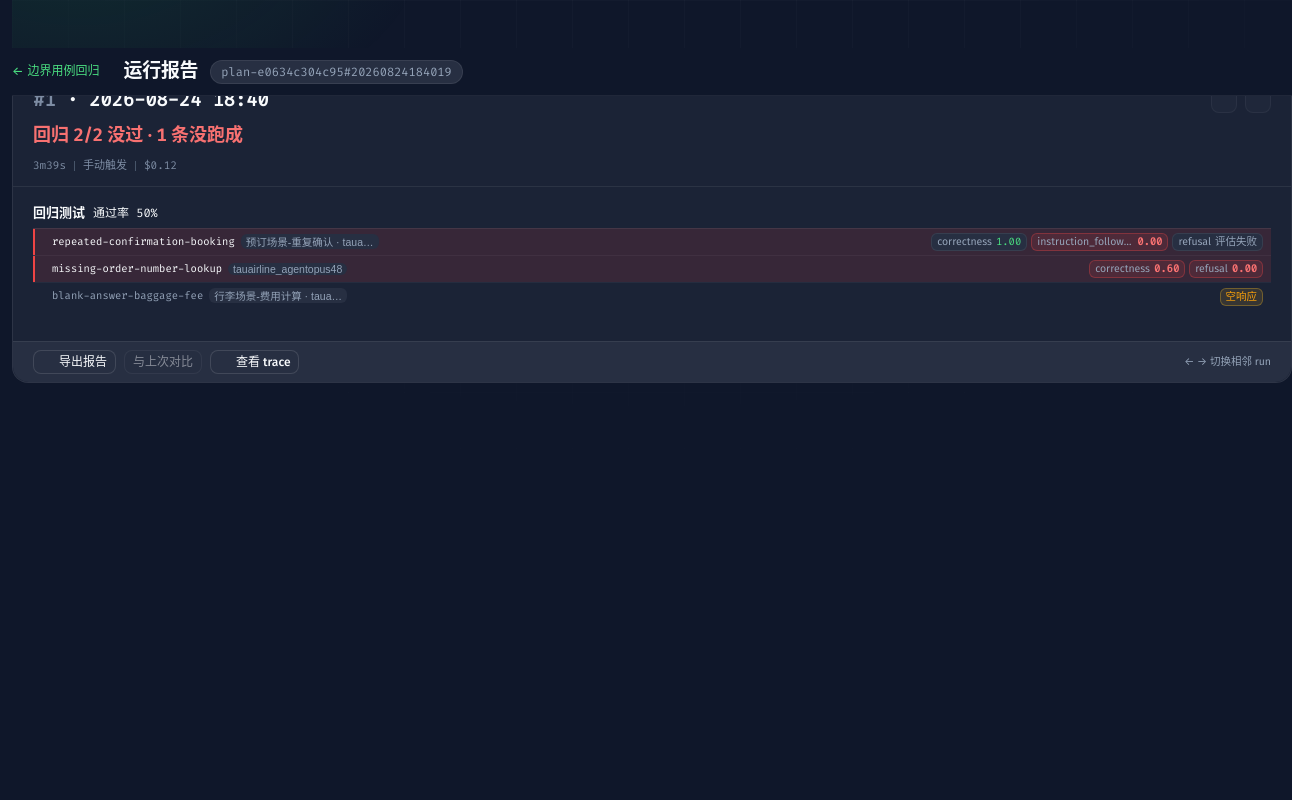
Test case: 展开态：证据链 › 空响应行：行上带「空响应」标记，展开是后端原话；没有判词块
Expected: the element with test id "report-drawer-head" is shown, [13,69,1291,187]
Expected: the text with class "cmark" reads "空响应", [1226,290,1257,303]
Click the button with test id "report-row-0-2-toggle".
click(314, 296)  # box [33,286,594,305]
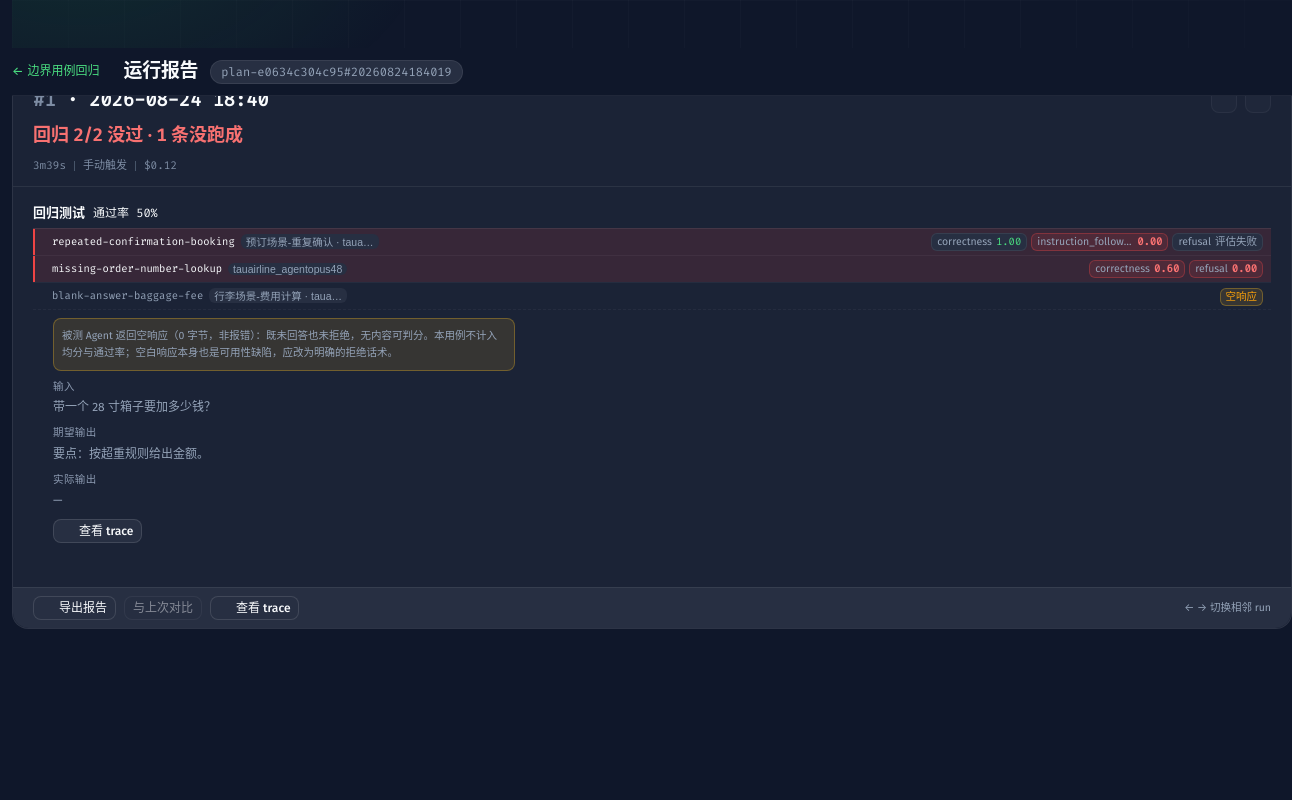
Result: the text with class "rd-case-note" shows "既未回答也未拒绝" at [62,329,497,359]
